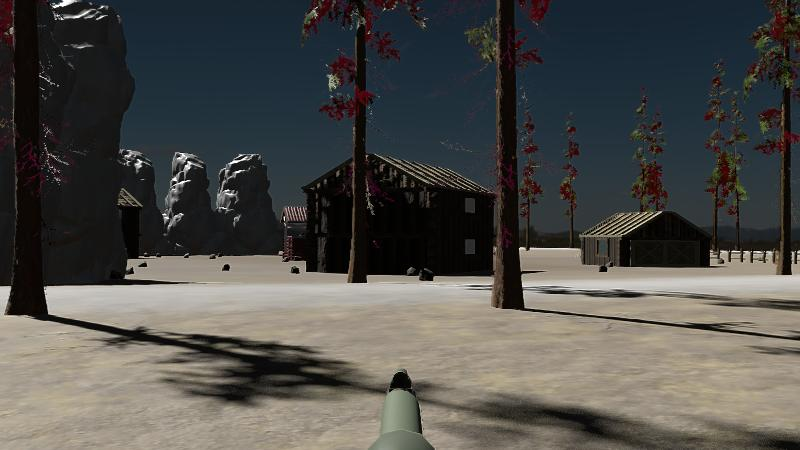House: (304, 154, 496, 276), (581, 211, 711, 267)
